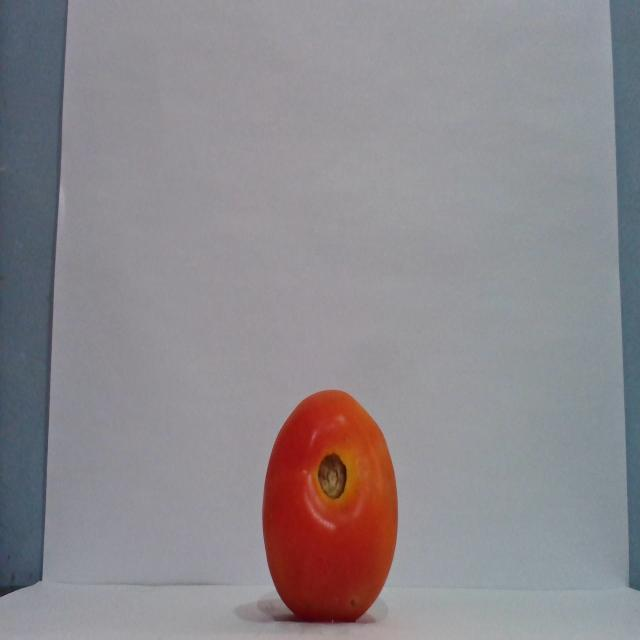Red: (260, 387, 399, 622)
